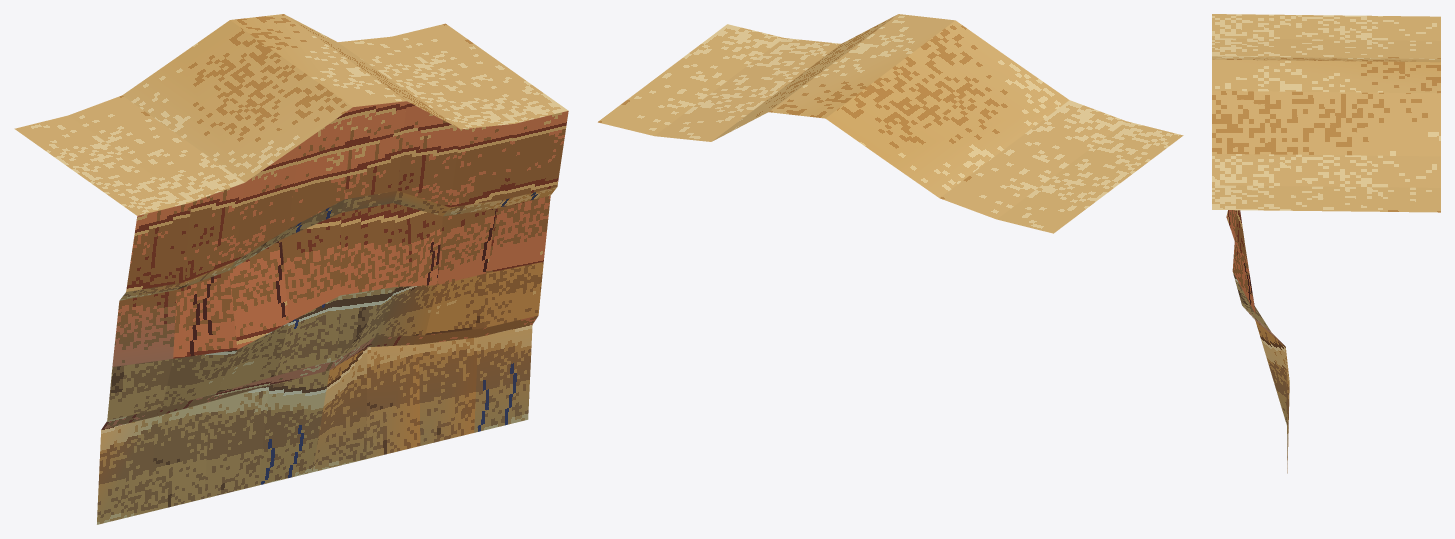
Rendered from wland.canyon_wall__low.glb.
3 views of the same model, side by side, from view 1: azimuth 30°, elevation 25°; view 2: azimuth 150°, elevation 25°; view 3: azimuth 270°, elevation 25° (orthographic). The views are drawn at different scales.
Visible parts, largest first — view 1: kit_shell_face, kit_shell_cap; view 2: kit_shell_cap; view 3: kit_shell_cap, kit_shell_face.
Boxes of the visible parts, x1,y1,x2,y2 form: kit_shell_face: (97, 101, 568, 524); kit_shell_cap: (14, 14, 568, 215); kit_shell_cap: (598, 14, 1183, 233); kit_shell_cap: (1212, 14, 1440, 212); kit_shell_face: (1226, 210, 1289, 473).
Size of the model in its own units: 8 by 7 by 3.95.
3 materials, 3 textured.
